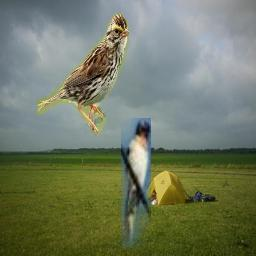Sparrow: (36, 10, 129, 136)
Swallow: (121, 118, 151, 248)
